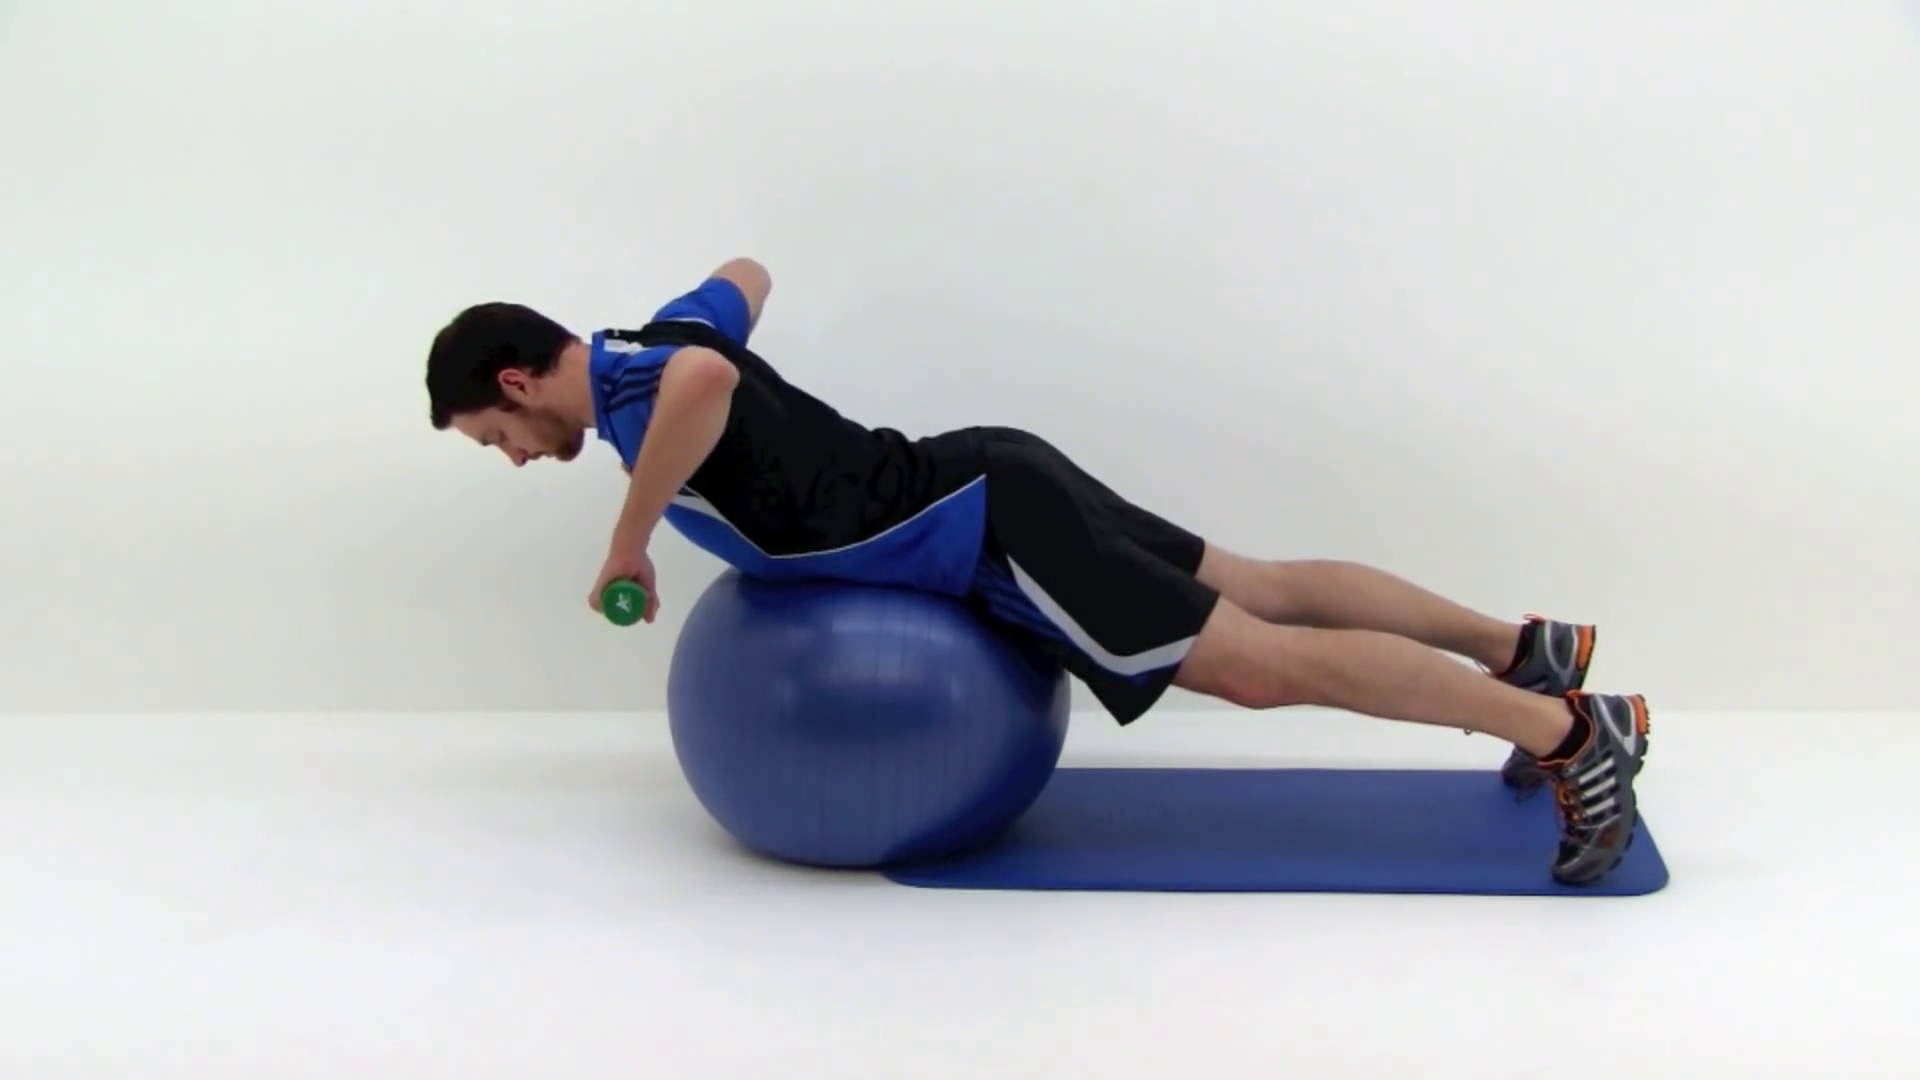yogaball: (662, 551, 1095, 876)
